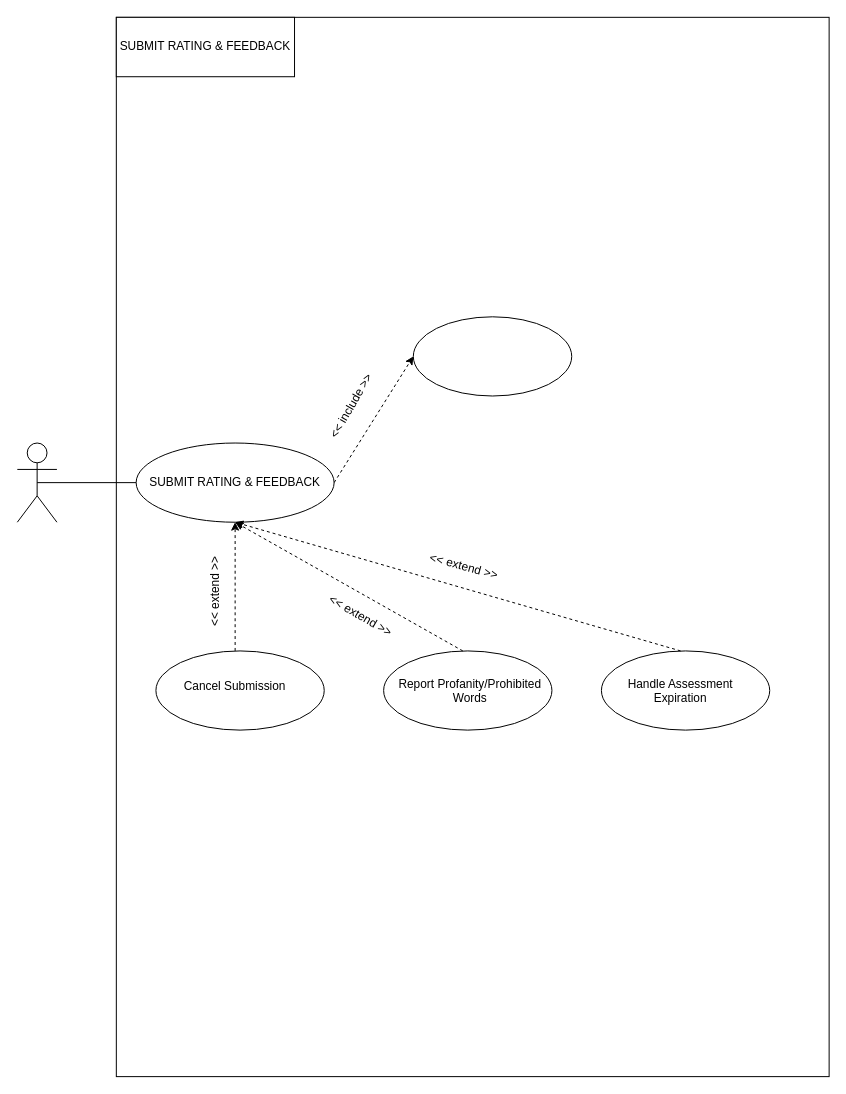
This 846x1094 diagram has some shape labels left out. Here are the shapes that lost their labels. From the top down, the centre of each, then its label:
At point 492,356: "Check Content Profanity".
At point 36,482: "User".
